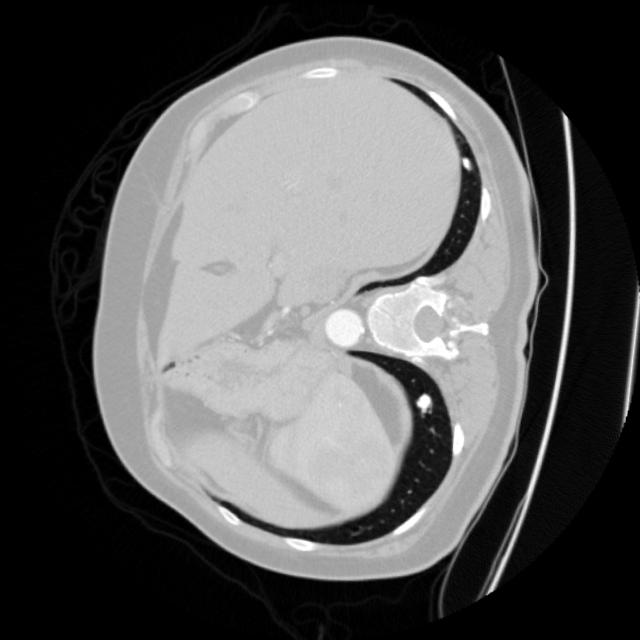nodule: (405, 381, 440, 416)
